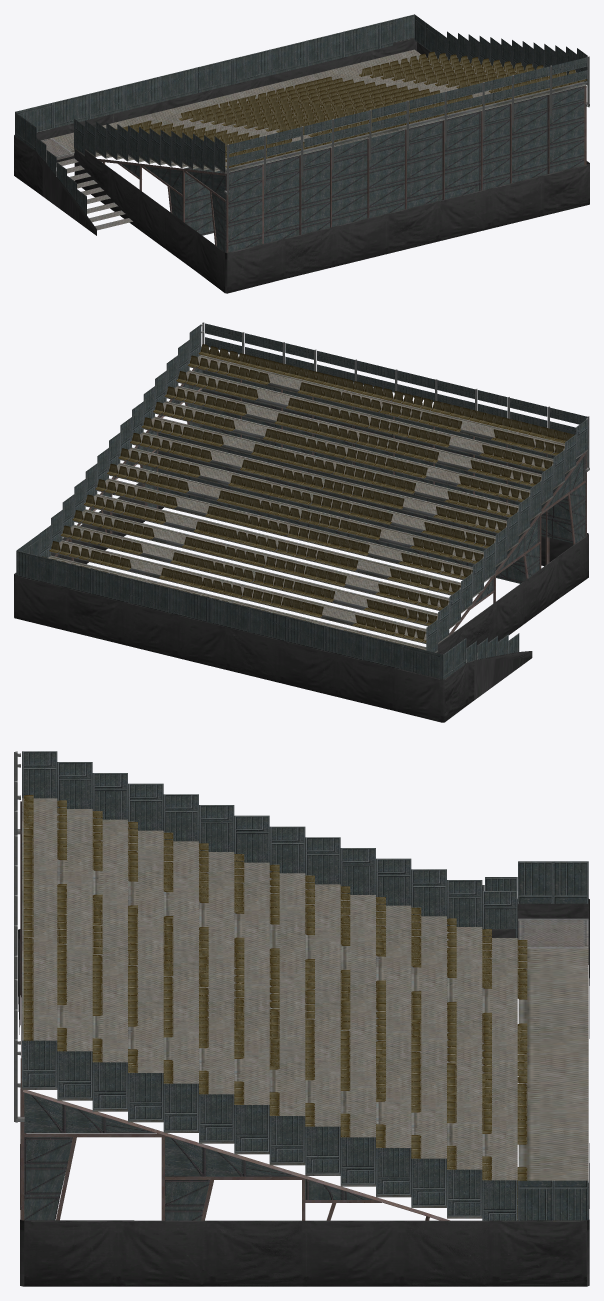
The model's file is generic medium.fbx.
3 renders of one model, top to bottom at view 1: azimuth 30°, elevation 25°; view 2: azimuth 150°, elevation 25°; view 3: azimuth 270°, elevation 25°, orthographic. The views are drawn at different scales.
Visible parts, largest first — view 1: Node_013_mel_grandstand_genericmedium_a_physics__bk; view 2: Node_013_mel_grandstand_genericmedium_a_physics__bk; view 3: Node_013_mel_grandstand_genericmedium_a_physics__bk.
Boxes of the visible parts, box(x1,y1,x2,y2) form: Node_013_mel_grandstand_genericmedium_a_physics__bk: box(14, 14, 589, 293); Node_013_mel_grandstand_genericmedium_a_physics__bk: box(14, 322, 589, 722); Node_013_mel_grandstand_genericmedium_a_physics__bk: box(14, 751, 589, 1286).
Bounding box in the file's own units: 23.67 × 8.38 × 17.87.
Materials: 3 (3 with a texture image).
